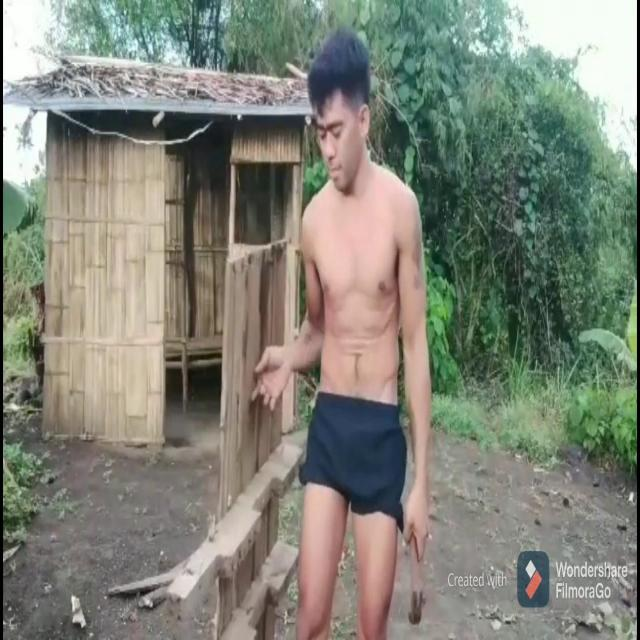hammer: (408, 534, 423, 625)
